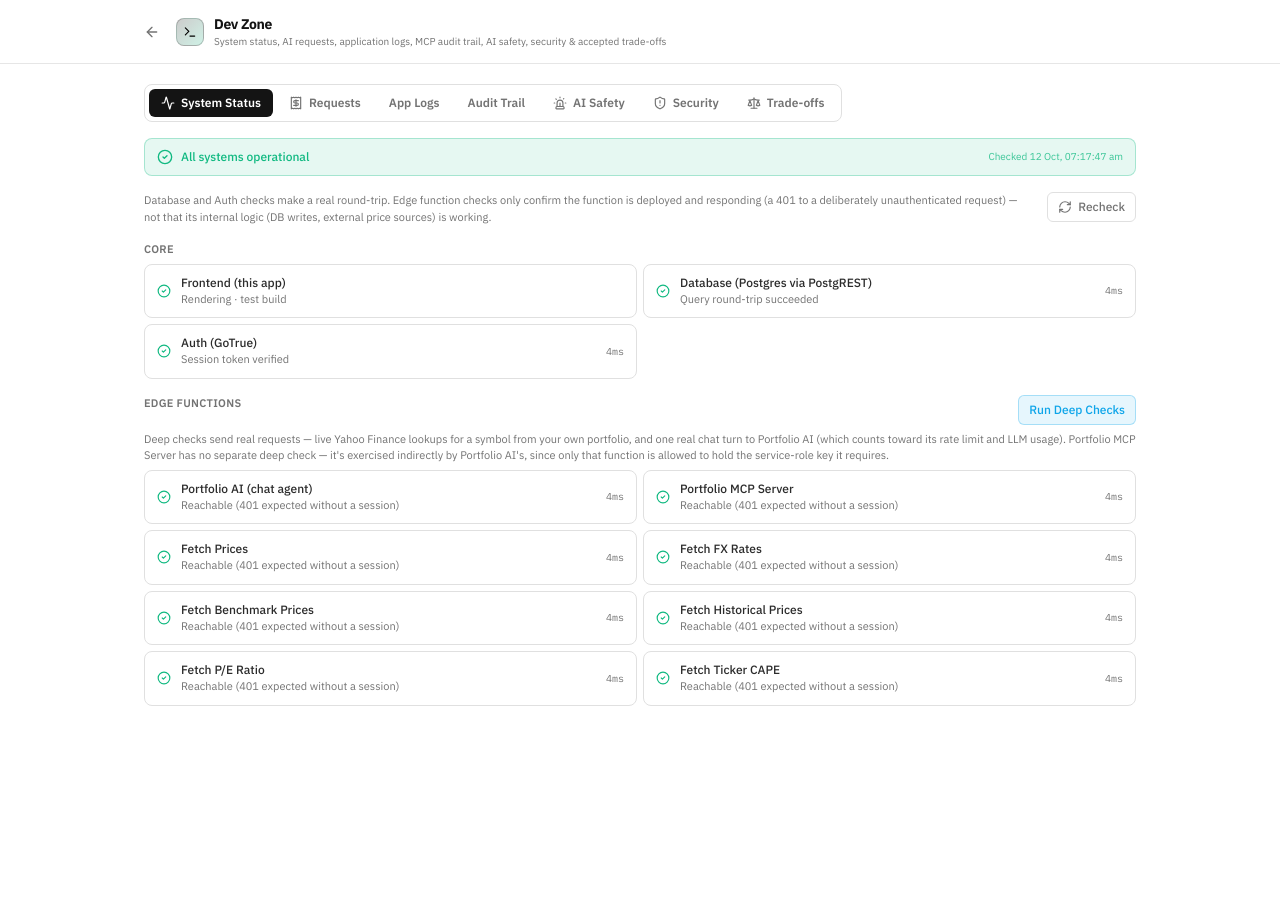
Scenario: DevZone › System Status tab (default view) › runs deep checks against a real portfolio symbol and shows a live price
Expected: the text "All systems operational" is shown, left=157, top=149, right=309, bottom=165
Click the button "Run Deep Checks" at (1077, 410), box left=1018, top=394, right=1136, bottom=424
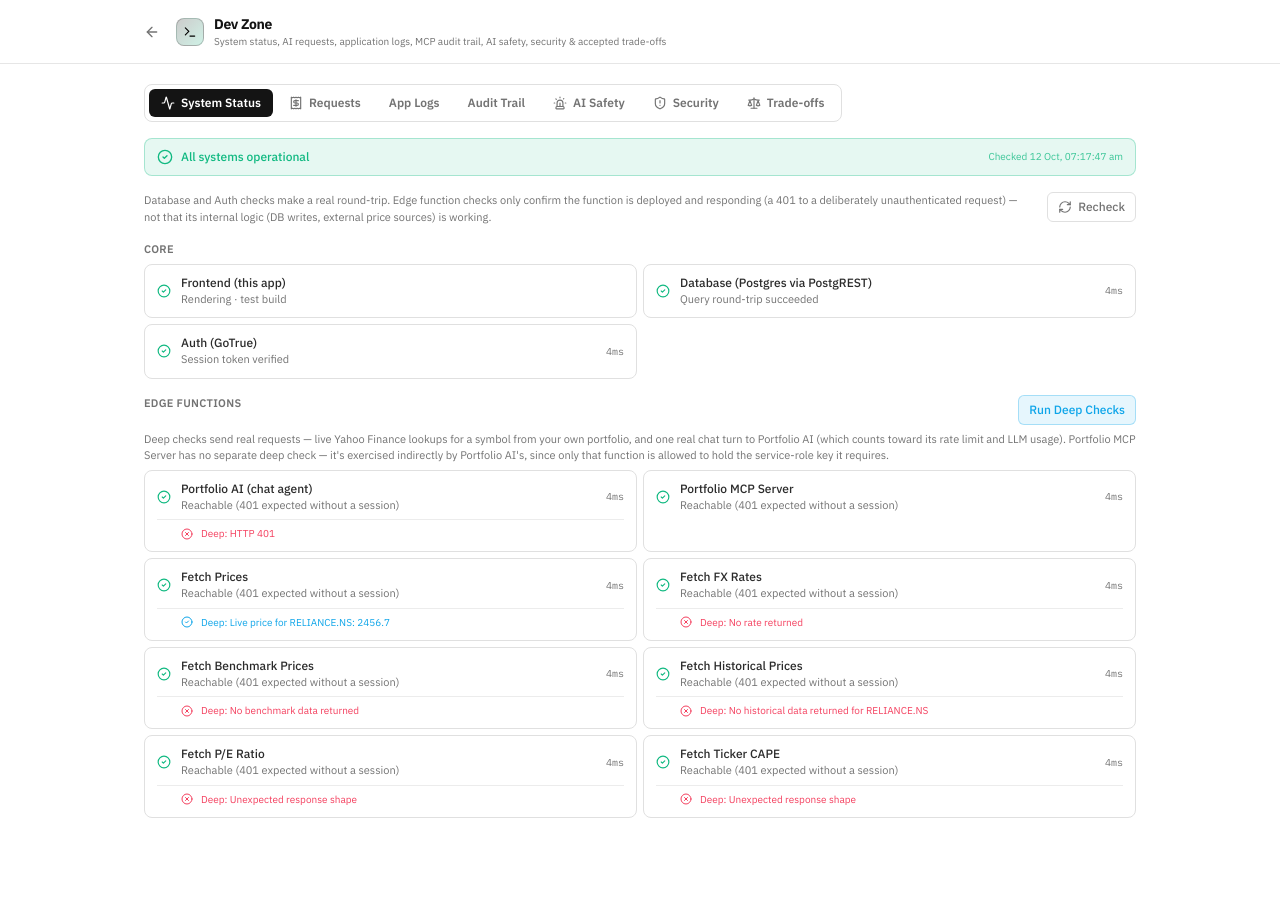
Now the text "Deep: Live price for RELIANCE.NS: 2456.7" is shown, box left=201, top=614, right=390, bottom=630
